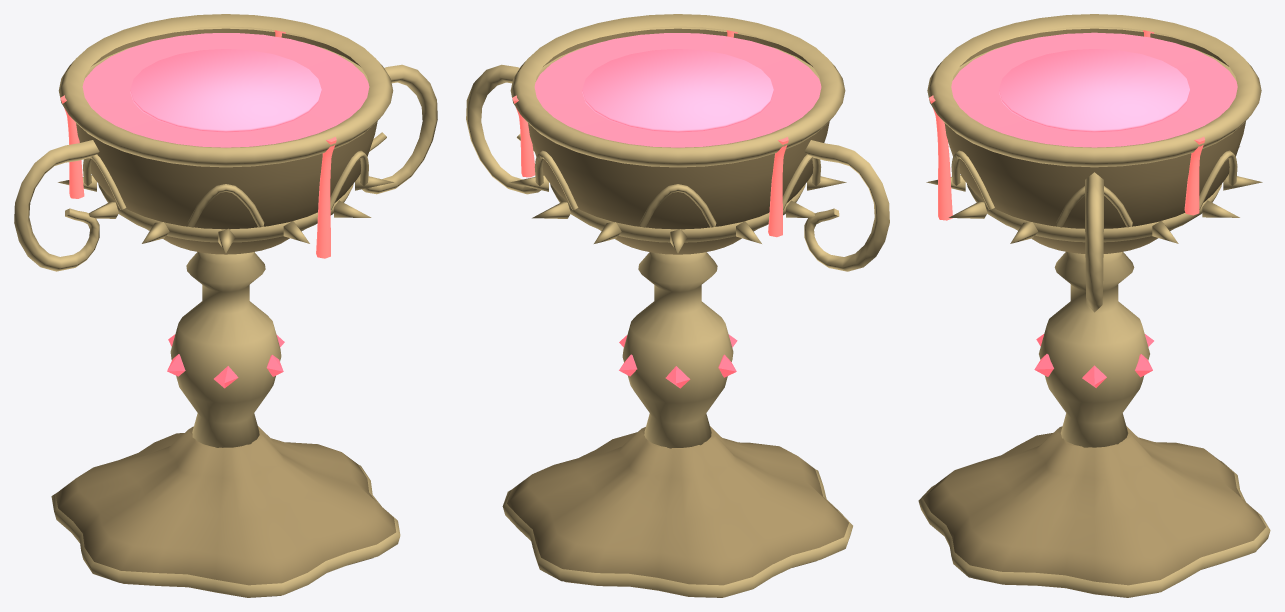
Rendered from blood_chalice.glb.
The picture shows the model from 3 angles, left to right: view 1: azimuth 30°, elevation 25°; view 2: azimuth 150°, elevation 25°; view 3: azimuth 270°, elevation 25°; orthographic projection.
Visible parts, largest first — view 1: cup_mesh, blood_glow_disc; view 2: cup_mesh, blood_glow_disc; view 3: cup_mesh, blood_glow_disc.
Boxes of the visible parts, x1,y1,x2,y2 form: cup_mesh: (14,14,437,597); blood_glow_disc: (130,49,321,132); cup_mesh: (466,14,889,597); blood_glow_disc: (582,49,773,132); cup_mesh: (918,14,1270,597); blood_glow_disc: (999,49,1189,132).
Bounding box in the file's own units: 0.6142 × 0.618 × 0.4424.
